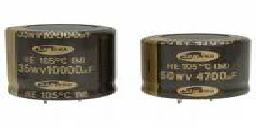Electrolytic-Capacitor: (4, 23, 123, 106), (139, 31, 254, 105)
